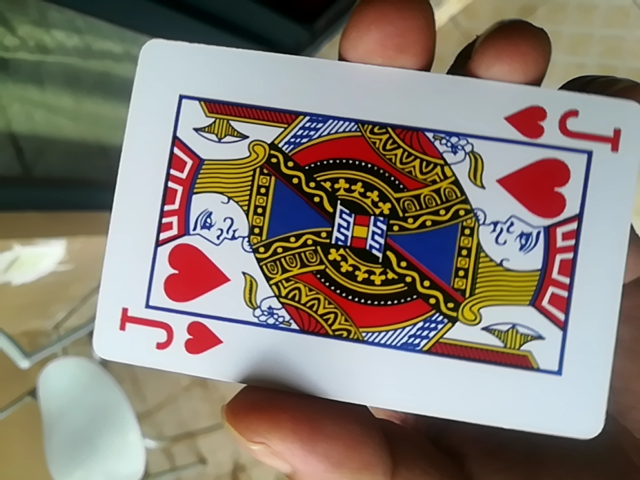hx j: (86, 43, 640, 439)
